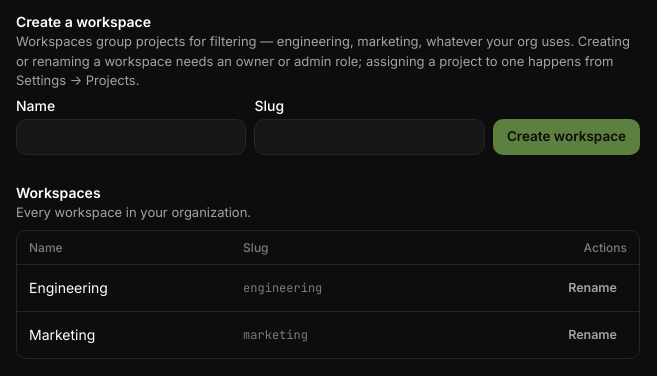
Test: creating a team › the Create button stays disabled until both fields are non-empty
The image size is (657, 376).
Check: the button "Create workspace" is disabled, box [493,118,640,154]
Type "Design" into the field labelled "Name". click: (131, 136)
box: [16,118,246,154]
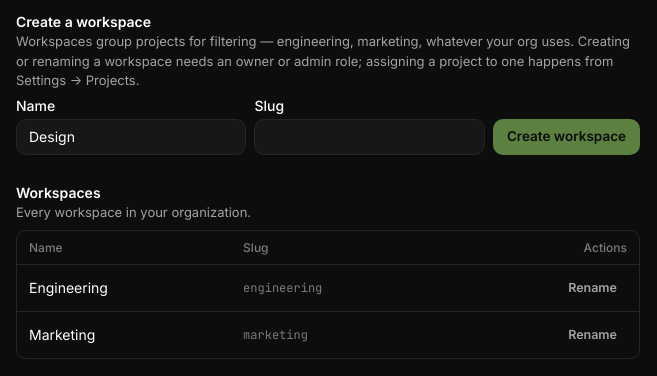
Check: the button "Create workspace" is disabled, box [493,118,640,154]
Type "design" into the field labelled "Slug". click: (370, 136)
box: [254,118,485,154]
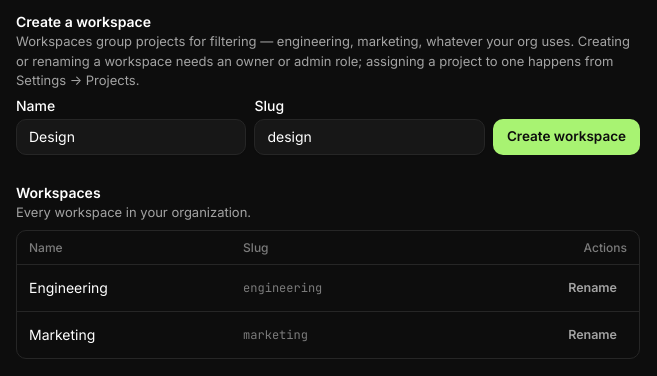
Check: the button "Create workspace" is enabled, box [493,118,640,154]
